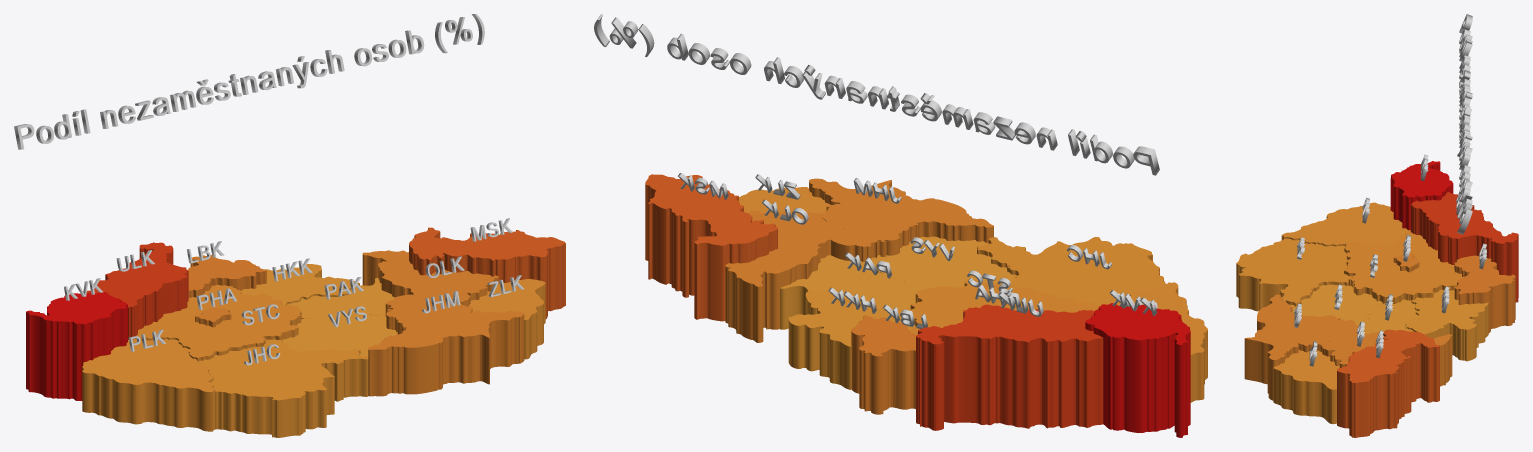
File: nezamestnanost_smoothed.glb
The picture shows the model from 3 angles, left to right: view 1: azimuth 30°, elevation 25°; view 2: azimuth 150°, elevation 25°; view 3: azimuth 270°, elevation 25°; orthographic projection. The views are drawn at different scales.
Visible parts, largest first — view 1: simplified_smoothed.010, simplified_smoothed.002, simplified_smoothed.003, simplified_smoothed.004, simplified_smoothed.012, Text, simplified_smoothed.001, simplified_smoothed.005, simplified_smoothed.011, simplified_smoothed.009, simplified_smoothed.013, simplified_smoothed.006 (+2 smaller); view 2: simplified_smoothed.005, simplified_smoothed.012, simplified_smoothed.004, Text, simplified_smoothed.010, simplified_smoothed.002, simplified_smoothed.011, simplified_smoothed.006, simplified_smoothed.007, simplified_smoothed.009, simplified_smoothed.008, simplified_smoothed.001 (+3 smaller); view 3: simplified_smoothed.012, simplified_smoothed.002, simplified_smoothed.001, simplified_smoothed.005, simplified_smoothed.010, simplified_smoothed.013, simplified_smoothed.007, simplified_smoothed.003, simplified_smoothed.006, Text, simplified_smoothed.004, simplified_smoothed.009 (+3 smaller).
Boxes of the visible parts, x1,y1,x2,y2 form: simplified_smoothed.010: (368, 294, 524, 396); simplified_smoothed.002: (199, 339, 368, 437); simplified_smoothed.003: (82, 339, 215, 431); simplified_smoothed.004: (26, 292, 127, 400); simplified_smoothed.012: (409, 227, 565, 318); Text: (14, 14, 484, 149); simplified_smoothed.001: (135, 284, 301, 361); simplified_smoothed.005: (86, 242, 188, 339); simplified_smoothed.011: (362, 250, 498, 306); simplified_smoothed.009: (283, 314, 397, 356); simplified_smoothed.013: (468, 278, 545, 359); simplified_smoothed.006: (188, 255, 266, 297); simplified_smoothed.005: (916, 304, 1103, 430); simplified_smoothed.012: (645, 174, 777, 321); simplified_smoothed.004: (1085, 303, 1190, 437); Text: (594, 14, 1159, 175); simplified_smoothed.010: (809, 178, 993, 261); simplified_smoothed.002: (977, 237, 1165, 305); simplified_smoothed.011: (725, 210, 843, 342); simplified_smoothed.006: (851, 315, 916, 414); simplified_smoothed.007: (788, 288, 915, 389); simplified_smoothed.009: (871, 236, 1016, 291); simplified_smoothed.008: (780, 255, 917, 329); simplified_smoothed.001: (909, 280, 1100, 334); simplified_smoothed.012: (1337, 329, 1439, 437); simplified_smoothed.002: (1236, 238, 1352, 311); simplified_smoothed.001: (1344, 232, 1463, 303); simplified_smoothed.005: (1410, 192, 1518, 302); simplified_smoothed.010: (1244, 294, 1358, 400); simplified_smoothed.013: (1273, 349, 1339, 424); simplified_smoothed.007: (1405, 289, 1488, 361); simplified_smoothed.003: (1281, 202, 1410, 246); simplified_smoothed.006: (1454, 255, 1515, 332); Text: (1457, 14, 1472, 234); simplified_smoothed.004: (1390, 161, 1453, 230); simplified_smoothed.009: (1290, 284, 1382, 325).
Bounding box in the file's own units: 191 × 92.46 × 109.
Materials: 16 (1 with a texture image).
